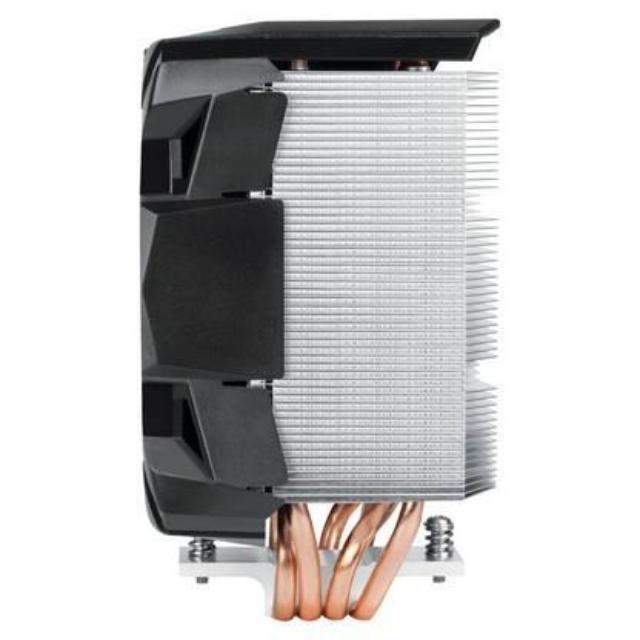CPU_Fan: (135, 19, 498, 624)
